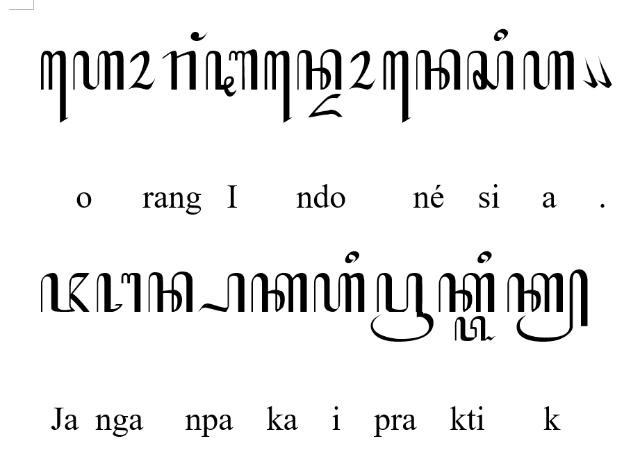-k: (507, 268, 589, 342)
I: (205, 48, 259, 96)
_d: (308, 92, 342, 118)
_p: (198, 272, 246, 314)
_t: (454, 316, 496, 342)
e1: (264, 50, 292, 124), (382, 50, 410, 124), (40, 50, 68, 123)
h: (523, 50, 575, 92), (313, 271, 365, 313), (72, 50, 124, 90)
i: (344, 250, 360, 265), (493, 28, 509, 42), (476, 250, 492, 264)
j: (40, 272, 90, 314)
k: (251, 272, 309, 314), (437, 272, 495, 312)
kom: (582, 57, 598, 89), (596, 56, 612, 88)
n: (148, 271, 195, 313), (296, 50, 342, 90), (415, 50, 461, 90)
ng: (190, 31, 208, 42)
nga: (95, 271, 141, 313)
o: (127, 50, 155, 90), (348, 50, 376, 90)
pr: (370, 272, 434, 342)
r: (162, 49, 198, 91)
s: (466, 50, 514, 90)
